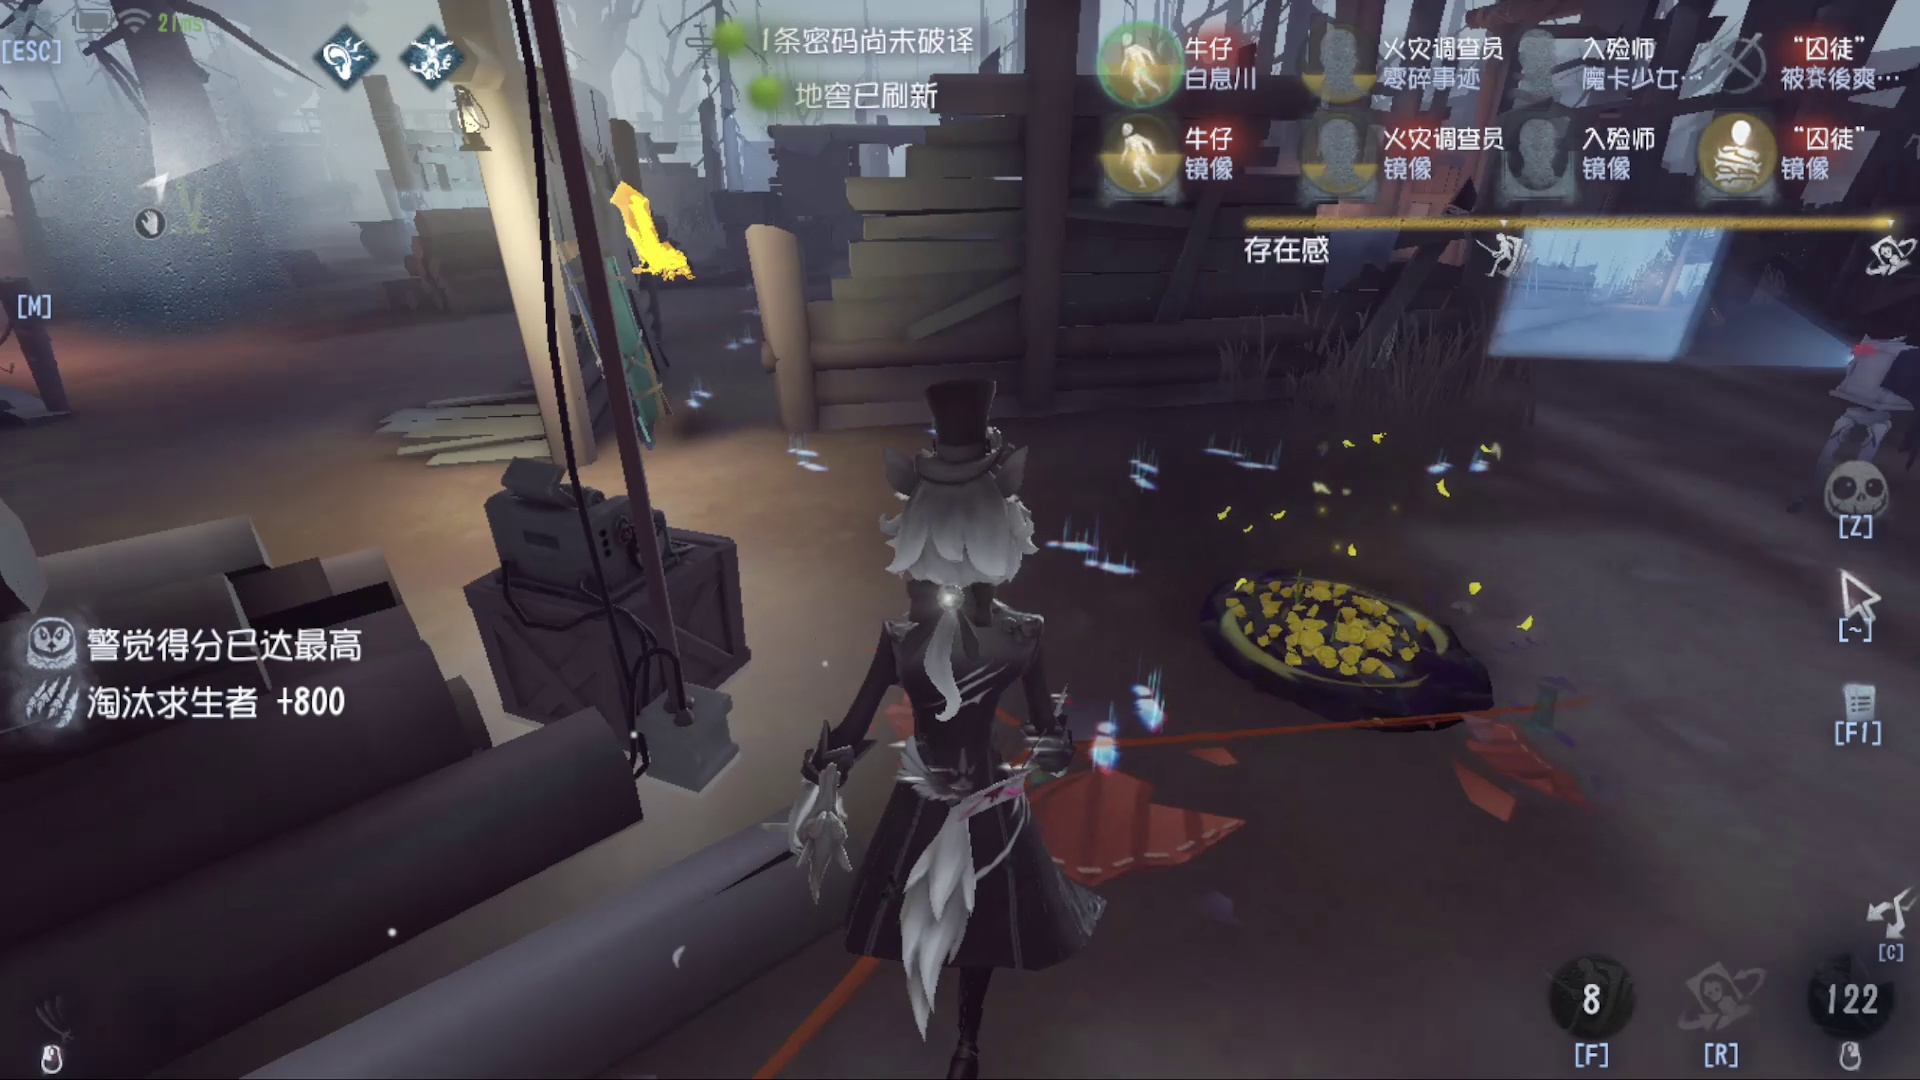密码机: (430, 423, 789, 758)
木板: (572, 240, 692, 451)
狂欢之椅: (608, 156, 702, 291)
